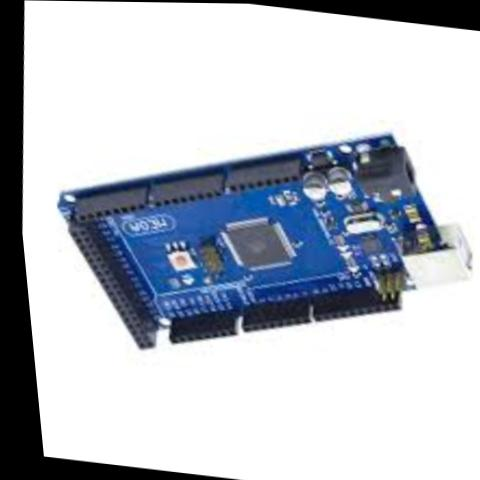Arduino-Mega: (10, 81, 480, 396)
